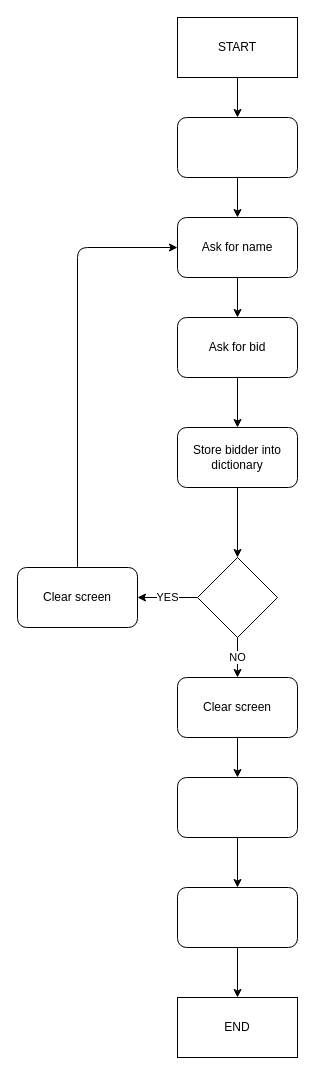
Image size: 315x1075. Some labels were removed from this diagram. The shapes that lost their labels are listed below. From the top down, each one's centre as x and y in pixels, then its label:
the point at 237,147: Print logo
the point at 237,597: Other bidders?
the point at 237,807: Obtain highest bidder
the point at 237,917: Print winner and bid
